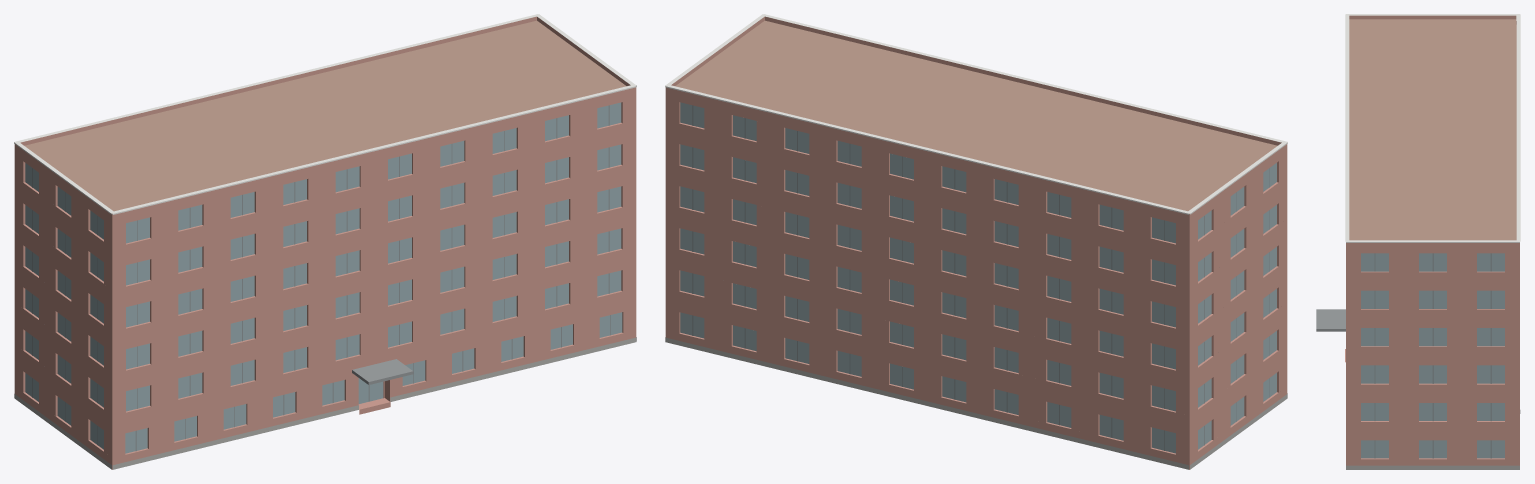
The picture shows the model from 3 angles, left to right: view 1: azimuth 30°, elevation 25°; view 2: azimuth 150°, elevation 25°; view 3: azimuth 270°, elevation 25°; orthographic projection. The views are drawn at different scales.
Visible parts, largest first — view 1: b743648658__wall, b743648658__roof, b743648658__glass, b743648658__parapet, b743648658__trim, b743648658__base, b743648658__frame, b743648658__canopy; view 2: b743648658__wall, b743648658__roof, b743648658__glass, b743648658__parapet, b743648658__trim, b743648658__base, b743648658__frame; view 3: b743648658__roof, b743648658__wall, b743648658__glass, b743648658__trim, b743648658__parapet, b743648658__base, b743648658__canopy, b743648658__frame.
Part boxes in pixels (x1=…): b743648658__wall: x1=14, y1=90, x2=636, y2=469; b743648658__roof: x1=24, y1=20, x2=626, y2=211; b743648658__glass: x1=25, y1=102, x2=622, y2=453; b743648658__parapet: x1=14, y1=16, x2=636, y2=217; b743648658__trim: x1=14, y1=14, x2=636, y2=214; b743648658__base: x1=14, y1=337, x2=636, y2=469; b743648658__frame: x1=32, y1=105, x2=610, y2=451; b743648658__canopy: x1=352, y1=359, x2=413, y2=384; b743648658__wall: x1=665, y1=90, x2=1287, y2=469; b743648658__roof: x1=675, y1=20, x2=1277, y2=211; b743648658__glass: x1=680, y1=102, x2=1276, y2=453; b743648658__parapet: x1=665, y1=16, x2=1287, y2=217; b743648658__trim: x1=665, y1=14, x2=1287, y2=214; b743648658__base: x1=665, y1=337, x2=1287, y2=469; b743648658__frame: x1=692, y1=105, x2=1269, y2=450; b743648658__roof: x1=1349, y1=19, x2=1516, y2=240; b743648658__wall: x1=1346, y1=245, x2=1519, y2=465; b743648658__glass: x1=1361, y1=253, x2=1504, y2=458; b743648658__trim: x1=1345, y1=14, x2=1520, y2=242; b743648658__parapet: x1=1346, y1=15, x2=1519, y2=245; b743648658__base: x1=1346, y1=410, x2=1520, y2=469; b743648658__canopy: x1=1316, y1=309, x2=1345, y2=331; b743648658__frame: x1=1374, y1=253, x2=1491, y2=458.
Bounding box in the file's own units: 47.1 × 22.35 × 17.85.
